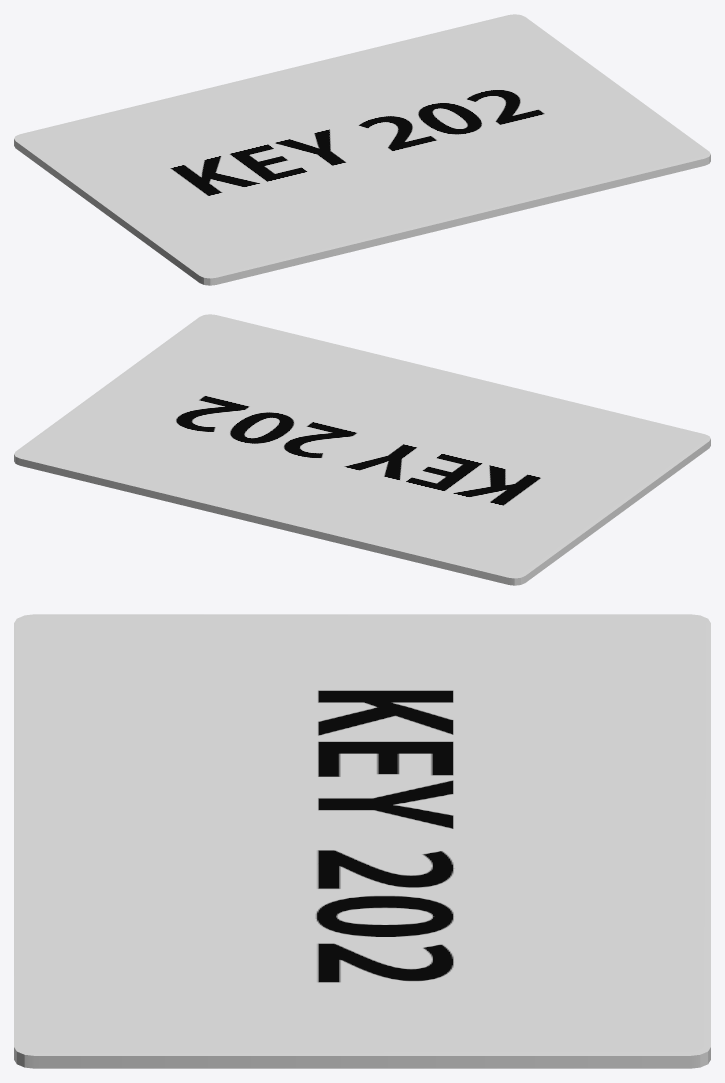
Rendered from Card0.FBX.
3 views of the same model, one above another, from view 1: azimuth 30°, elevation 25°; view 2: azimuth 150°, elevation 25°; view 3: azimuth 270°, elevation 25° (orthographic). The views are drawn at different scales.
Parts seen in each view (by area): view 1: ChamferBox001; view 2: ChamferBox001; view 3: ChamferBox001.
Boxes of the visible parts, x1,y1,x2,y2 form: ChamferBox001: (14, 14, 710, 285); ChamferBox001: (14, 314, 710, 585); ChamferBox001: (14, 614, 710, 1068).
Size of the model in its own units: 7.68 by 0.1047 by 5.12.
Materials: 1 (1 with a texture image).
